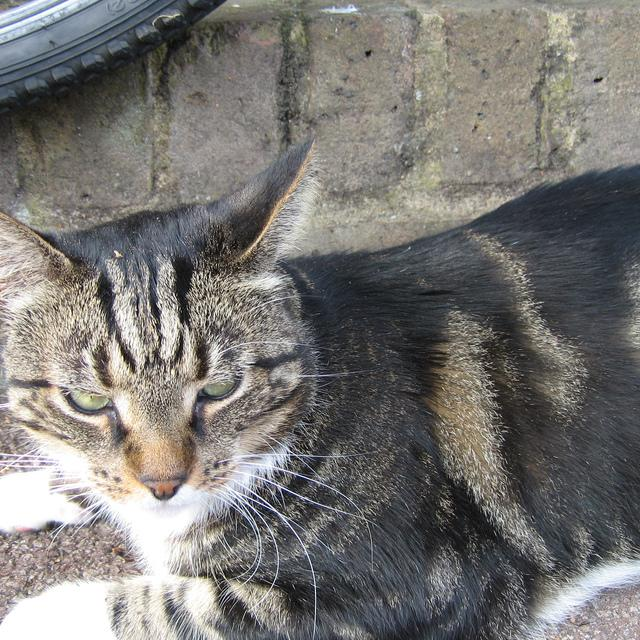animals: (0, 142, 310, 495)
